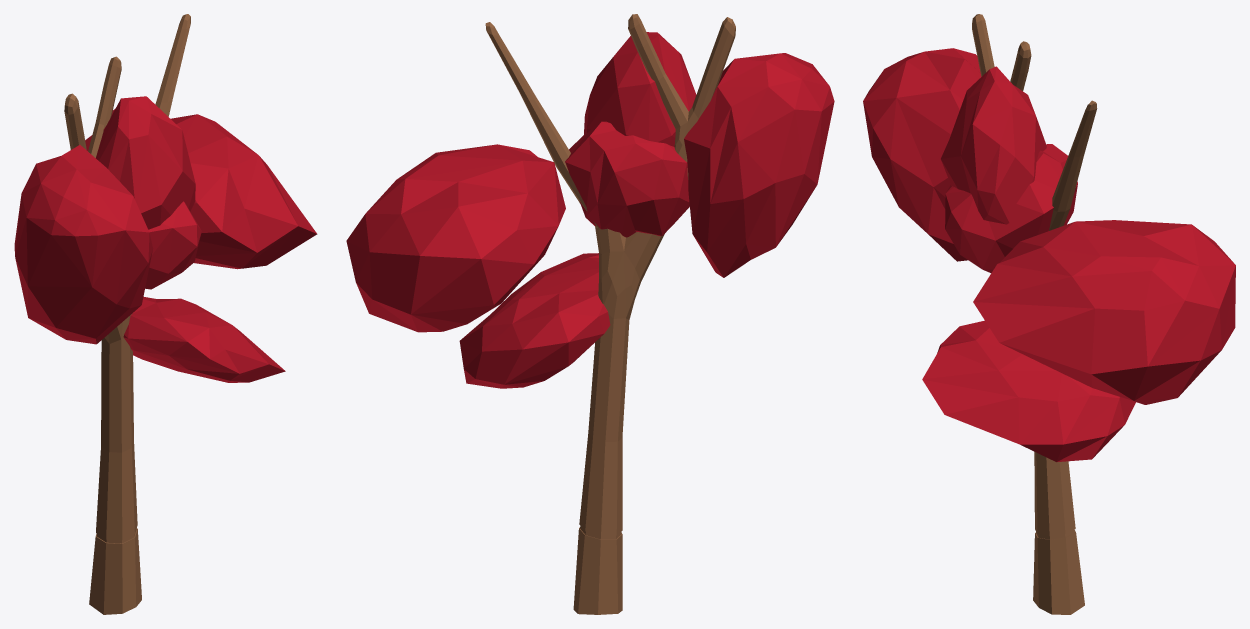
File: tree-dead-complete-6-010.glb
3 renders of one model, left to right at view 1: azimuth 30°, elevation 25°; view 2: azimuth 150°, elevation 25°; view 3: azimuth 270°, elevation 25°, orthographic. The views are drawn at different scales.
Visible parts, largest first — view 1: TREE 6.007_516, TREE 6.006_517; view 2: TREE 6.007_516, TREE 6.006_517; view 3: TREE 6.007_516, TREE 6.006_517.
Part boxes in pixels (x1=…): TREE 6.007_516: x1=14, y1=96, x2=317, y2=382; TREE 6.006_517: x1=64, y1=14, x2=190, y2=614; TREE 6.007_516: x1=346, y1=32, x2=834, y2=388; TREE 6.006_517: x1=485, y1=14, x2=735, y2=614; TREE 6.007_516: x1=863, y1=48, x2=1235, y2=462; TREE 6.006_517: x1=972, y1=14, x2=1097, y2=614.
Size of the model in its own units: 0.9337 by 1.44 by 0.8774.
